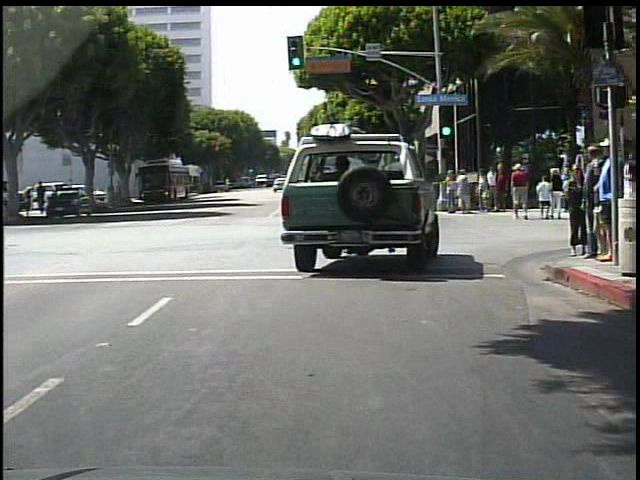person: (592, 135, 621, 267), (565, 157, 592, 261), (582, 144, 604, 261), (510, 163, 531, 223), (533, 172, 554, 223), (547, 166, 566, 220), (459, 166, 474, 216), (500, 168, 513, 215), (477, 169, 490, 212), (487, 166, 499, 210), (444, 167, 455, 214), (117, 182, 125, 209), (108, 182, 117, 205)
